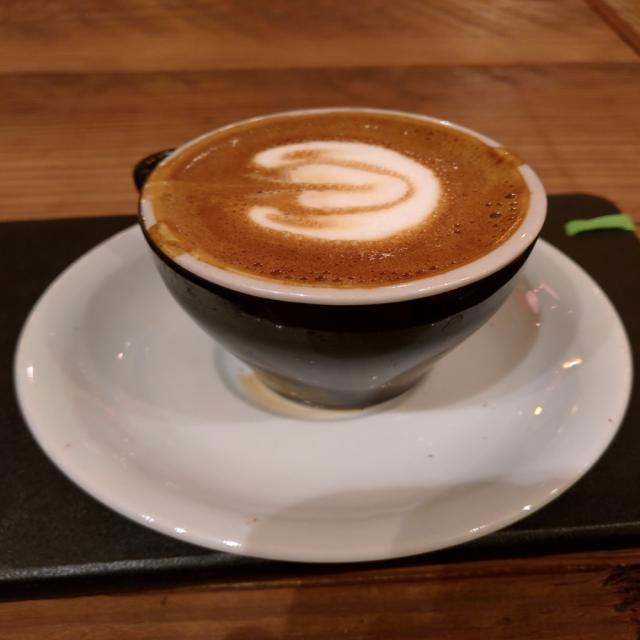Coffee: (142, 111, 527, 291)
